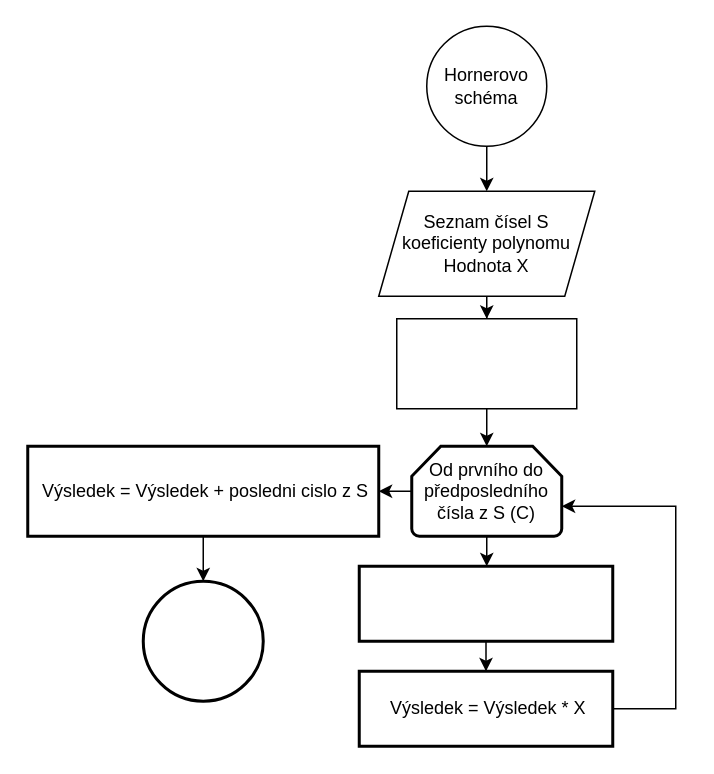
This 714x774 diagram has some shape labels left out. The centre of each missing label's shape, as x and y in pixels:
Výsledek: point (202, 640)
Výsledek = Výsledek + C: point (485, 603)
Výsledek=0: point (486, 363)
